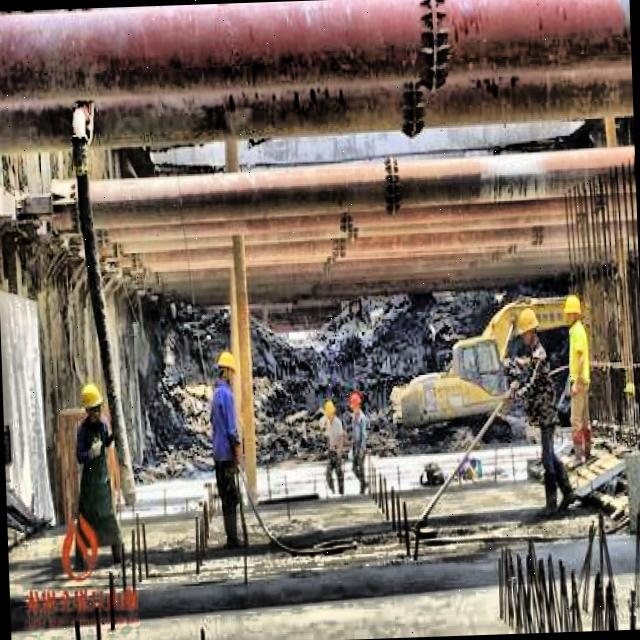helmet: (79, 382, 107, 424), (516, 304, 542, 349), (216, 346, 240, 388), (561, 294, 583, 332), (346, 391, 362, 418), (322, 397, 338, 421)
